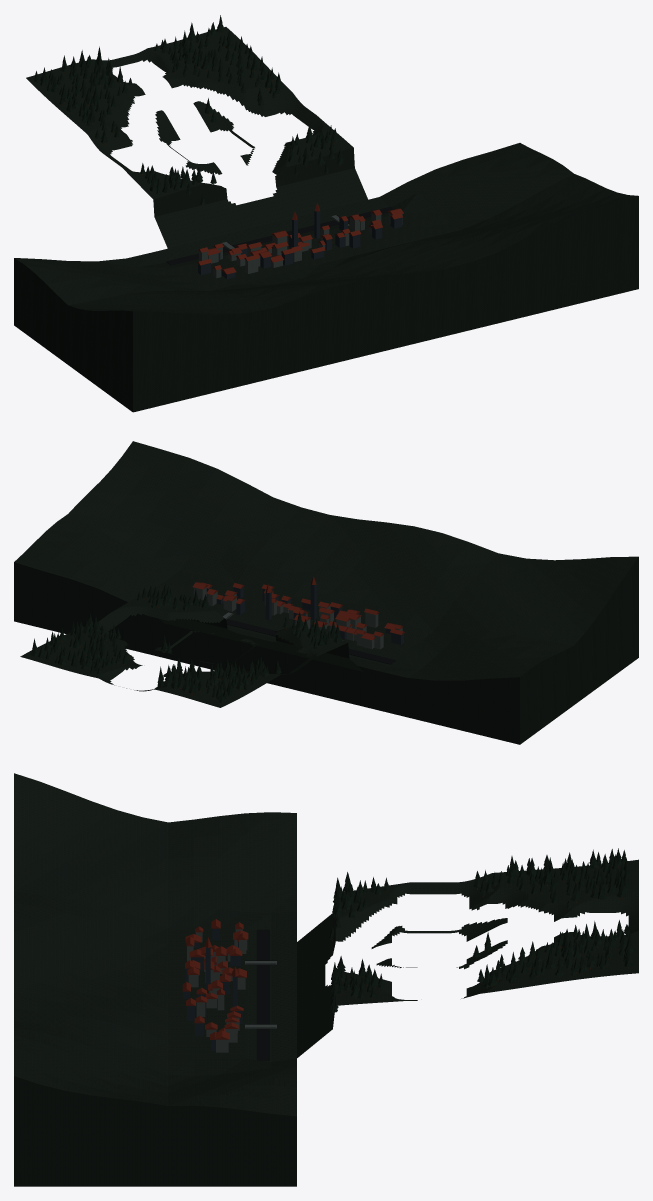
The model's file is Pohorje_Backdrop.fbx.
The picture shows the model from 3 angles, top to bottom: view 1: azimuth 30°, elevation 25°; view 2: azimuth 150°, elevation 25°; view 3: azimuth 270°, elevation 25°; orthographic projection. The views are drawn at different scales.
Parts seen in each view (by area): view 1: PL_Backdrop_Maribor_20_32, PL_Backdrop_Ground_05_05, PL_Backdrop_Ground_02_05, PL_Backdrop_Ground_03_05, PL_Backdrop_Ground_04_05, PL_Backdrop_Ground_02_02, PL_Backdrop_Ground_05_02, PL_Backdrop_Ground_01_05, PL_Backdrop_Ground_02_01, PL_Backdrop_Ground_03_01, PL_Backdrop_Ground_05_01, PL_Backdrop_Ground_03_00 (+2 smaller); view 2: PL_Backdrop_Maribor_20_32, PL_Backdrop_Ground_03_05, PL_Backdrop_Ground_02_04, PL_Backdrop_Ground_04_05, PL_Backdrop_Ground_02_05, PL_Backdrop_Ground_05_05, PL_Backdrop_Ground_05_00, PL_Backdrop_Ground_05_04; view 3: PL_Backdrop_Maribor_20_32, PL_Backdrop_Ground_05_02, PL_Backdrop_Ground_04_05, PL_Backdrop_Ground_05_05, PL_Backdrop_Ground_02_05, PL_Backdrop_Ground_04_01, PL_Backdrop_Ground_05_04, PL_Backdrop_Ground_03_05, PL_Backdrop_Ground_04_00, PL_Backdrop_Ground_02_01, PL_Backdrop_Ground_05_01.
Boxes of the visible parts, box(x1,y1,x2,y2) form: PL_Backdrop_Maribor_20_32: box(14, 143, 638, 412); PL_Backdrop_Ground_05_05: box(155, 180, 219, 246); PL_Backdrop_Ground_02_05: box(287, 144, 354, 213); PL_Backdrop_Ground_03_05: box(255, 157, 309, 224); PL_Backdrop_Ground_04_05: box(205, 183, 264, 235); PL_Backdrop_Ground_02_02: box(209, 71, 279, 113); PL_Backdrop_Ground_05_02: box(74, 102, 129, 143); PL_Backdrop_Ground_01_05: box(333, 140, 367, 202); PL_Backdrop_Ground_02_01: box(189, 46, 251, 81); PL_Backdrop_Ground_03_01: box(159, 59, 208, 88); PL_Backdrop_Ground_05_01: box(50, 77, 118, 114); PL_Backdrop_Ground_03_00: box(123, 43, 179, 67); PL_Backdrop_Maribor_20_32: box(14, 441, 638, 744); PL_Backdrop_Ground_03_05: box(197, 608, 266, 648); PL_Backdrop_Ground_02_04: box(134, 600, 196, 620); PL_Backdrop_Ground_04_05: box(256, 627, 308, 658); PL_Backdrop_Ground_02_05: box(155, 595, 221, 637); PL_Backdrop_Ground_05_05: box(287, 627, 356, 670); PL_Backdrop_Ground_05_00: box(168, 684, 225, 705); PL_Backdrop_Ground_05_04: box(285, 636, 331, 661); PL_Backdrop_Maribor_20_32: box(14, 773, 296, 1186); PL_Backdrop_Ground_05_02: box(479, 875, 541, 908); PL_Backdrop_Ground_04_05: box(297, 921, 355, 998); PL_Backdrop_Ground_05_05: box(297, 894, 355, 972); PL_Backdrop_Ground_02_05: box(297, 973, 355, 1050); PL_Backdrop_Ground_04_01: box(541, 891, 602, 921); PL_Backdrop_Ground_05_04: box(356, 889, 417, 927); PL_Backdrop_Ground_03_05: box(297, 972, 349, 1024); PL_Backdrop_Ground_04_00: box(603, 887, 638, 924); PL_Backdrop_Ground_02_01: box(541, 947, 602, 977); PL_Backdrop_Ground_05_01: box(541, 868, 602, 898).
Size of the model in its own units: 540 by 127 by 486.
